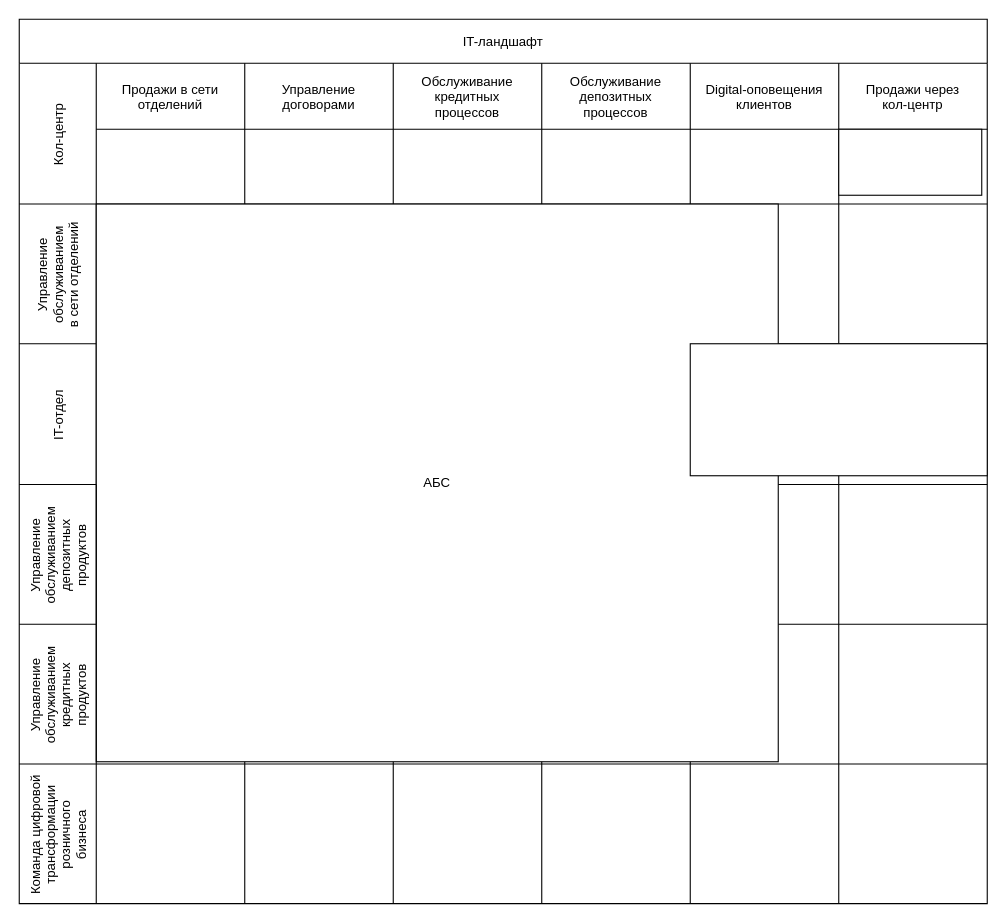
Some shapes in this 1007 by 923 pixel diagram are drawn without their labels. Here are the shapes that lost their labels. From the top down, the centre of each, then its label:
At point 910,161: "Система кол-центра(внутренная и внешная)".
At point 838,409: "СМС-шлюз телеком оператора".
